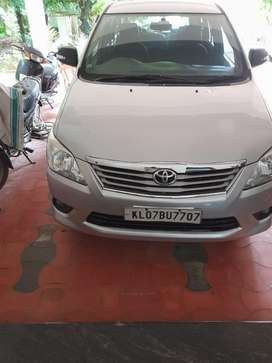KL07BU7707: (124, 207, 200, 223)
